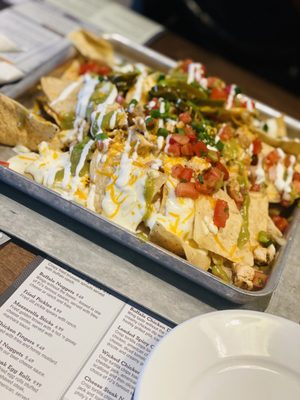pizza: (136, 309, 300, 400)
sushi: (0, 52, 300, 314), (135, 309, 300, 400)
